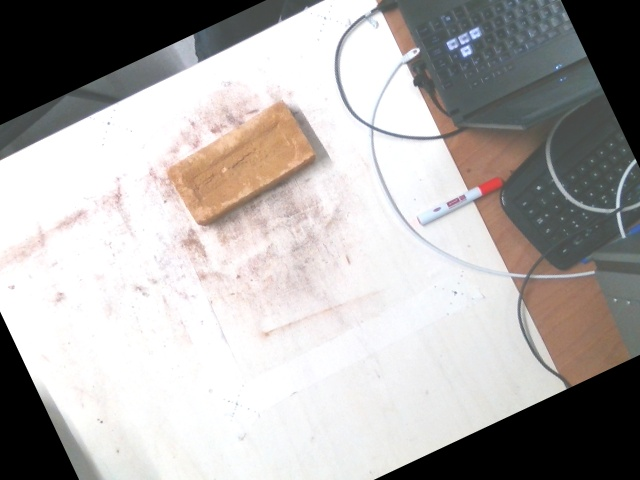brick: (167, 101, 313, 226)
